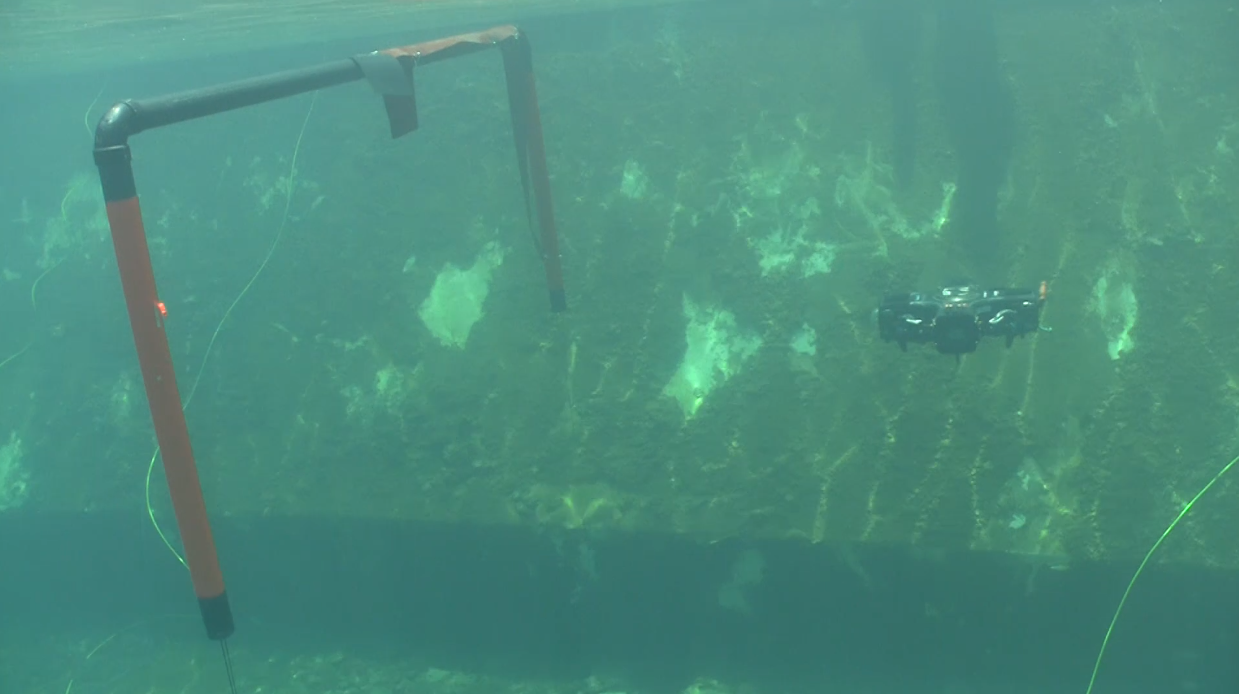gate: (88, 13, 569, 640)
